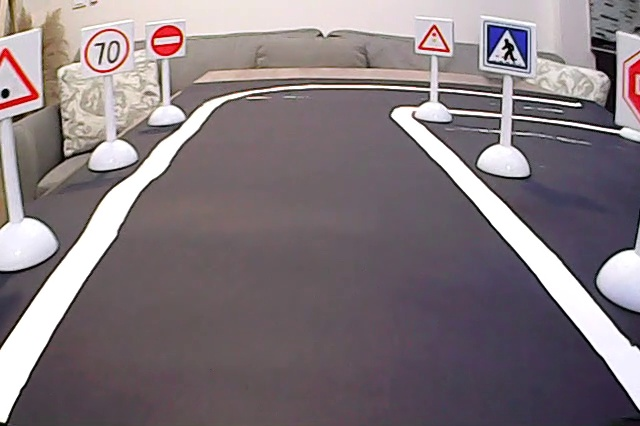do not enter: (147, 22, 185, 60)
green light: (1, 38, 42, 114)
pedestrian crossing: (483, 20, 531, 73)
red light: (416, 19, 453, 56)
speed limit 70: (83, 24, 135, 78)
